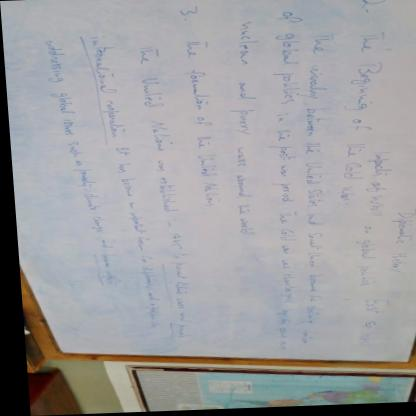Handwritten text: (73, 23, 164, 340), (32, 27, 124, 296), (128, 36, 198, 346), (255, 6, 308, 355), (286, 30, 341, 350), (320, 26, 390, 210), (171, 32, 225, 220), (223, 18, 262, 242), (336, 147, 392, 298), (337, 287, 390, 360)
